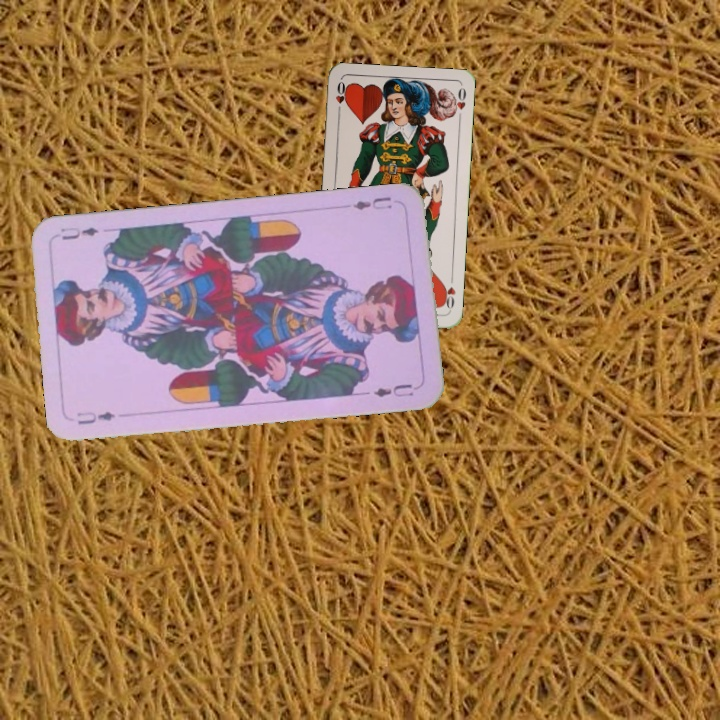EU: (72, 407, 118, 428), (349, 192, 394, 213)
HO: (439, 272, 458, 313), (332, 77, 349, 118)
